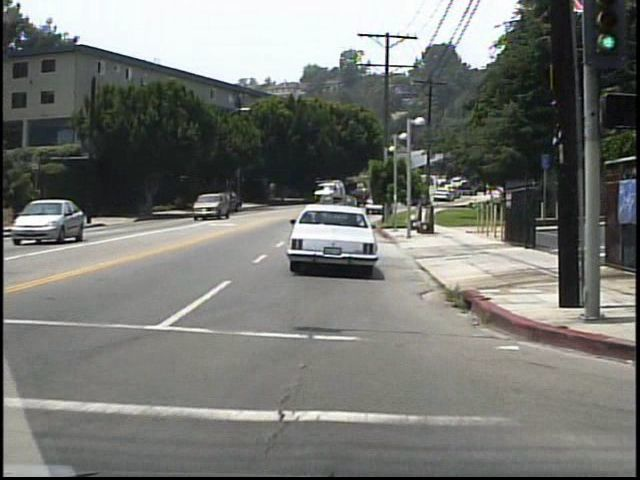person: (49, 200, 62, 228)
